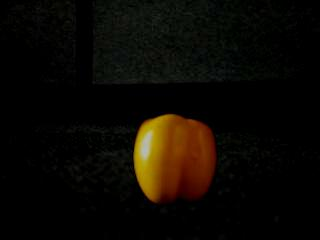Capsicum: (134, 114, 218, 207)
